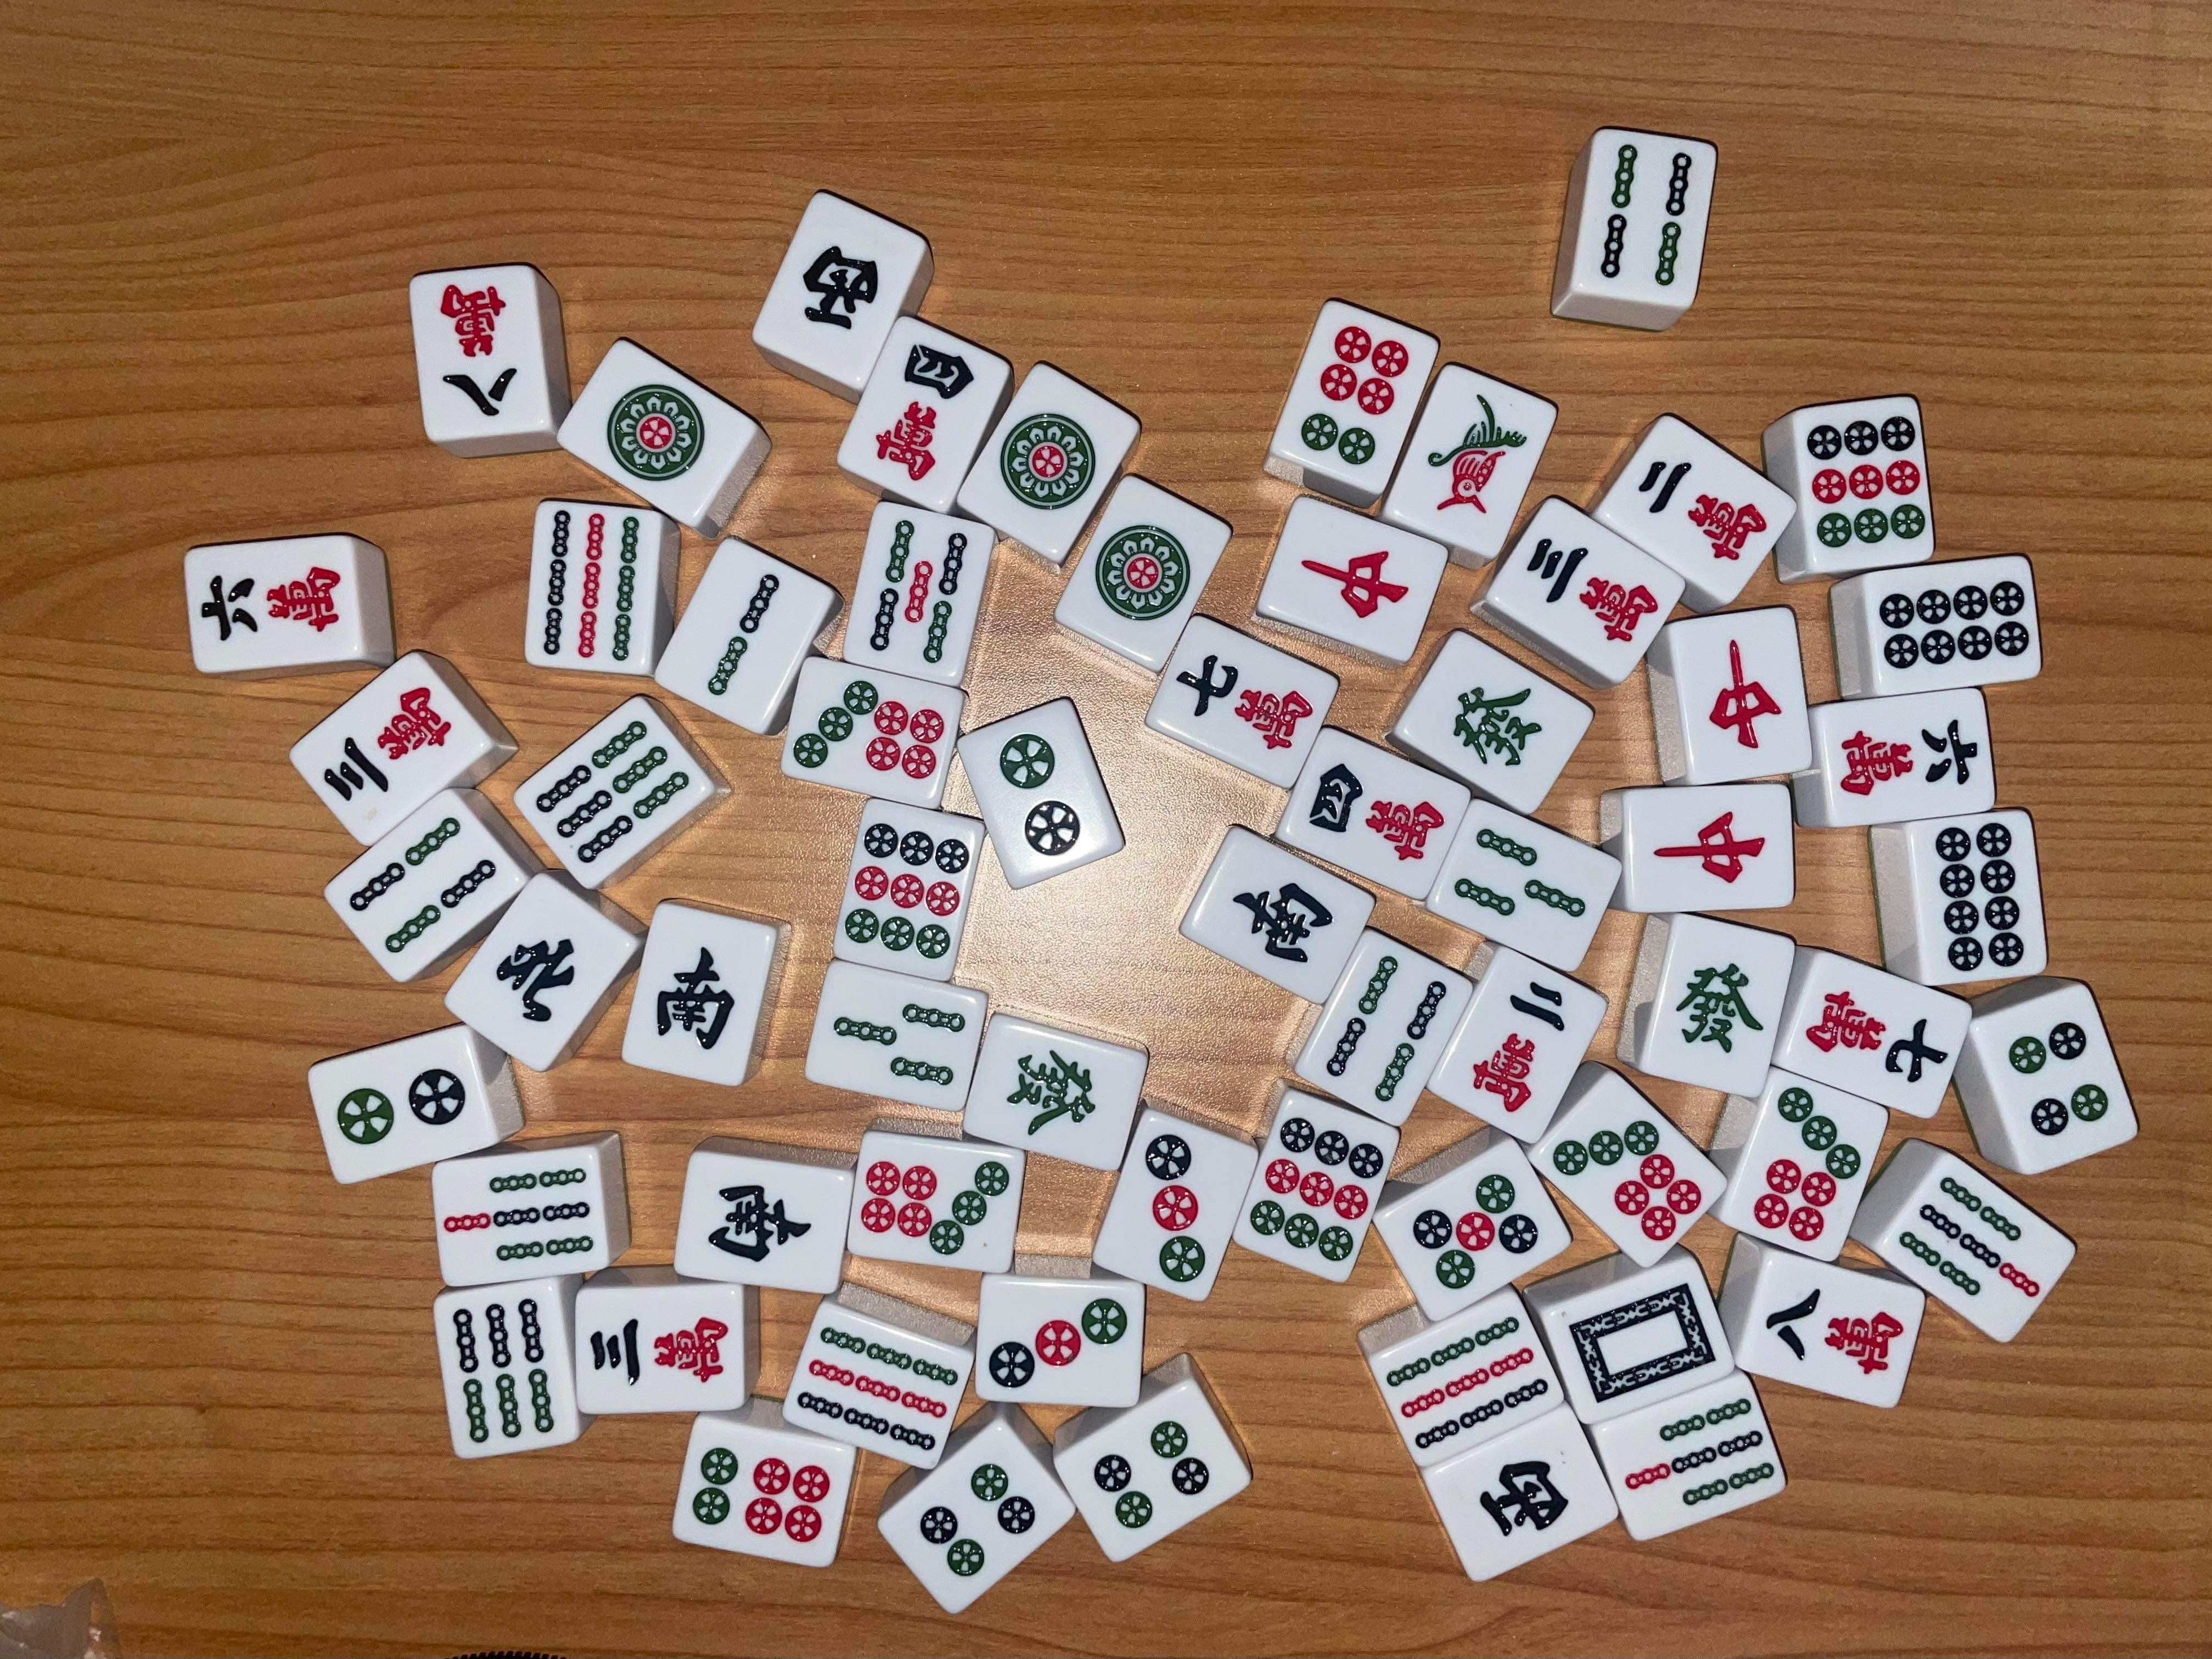b-1: (1428, 392, 1530, 514)
b-2: (708, 572, 779, 699)
b-3: (1454, 829, 1586, 939), (828, 1002, 966, 1087)
b-4: (349, 817, 497, 951), (1325, 955, 1449, 1103), (1602, 141, 1693, 286)
b-5: (870, 521, 967, 662)
b-6: (537, 721, 690, 864), (446, 1297, 560, 1445)
b-7: (1625, 1398, 1773, 1523), (1900, 1178, 2041, 1300), (443, 1168, 593, 1260)
b-9: (1384, 1314, 1550, 1450), (797, 1326, 959, 1453), (540, 511, 643, 664)
c-2: (1637, 460, 1771, 561), (1473, 983, 1565, 1112)
c-3: (322, 687, 451, 802), (1527, 538, 1659, 641), (586, 1314, 730, 1385)
c-4: (875, 343, 974, 483), (1309, 763, 1447, 863)
c-6: (1837, 716, 1982, 803), (199, 561, 343, 647)
c-7: (1802, 988, 1949, 1082), (1175, 655, 1313, 749)
c-8: (434, 281, 526, 418), (1766, 1288, 1903, 1375)
d-1: (607, 382, 708, 484), (999, 413, 1096, 511), (1095, 525, 1191, 620)
d-2: (997, 732, 1081, 857), (336, 1068, 465, 1145)
d-3: (985, 1293, 1131, 1389), (1140, 1133, 1208, 1283)
d-4: (917, 1462, 1037, 1579), (1093, 1420, 1211, 1534), (2006, 1021, 2111, 1138)
d-5: (1412, 1175, 1539, 1290)
d-6: (1299, 326, 1410, 467), (690, 1446, 835, 1546)
d-7: (1553, 1119, 1703, 1243), (1754, 1086, 1862, 1244), (791, 680, 947, 779), (859, 1155, 1009, 1255)
d-8: (1935, 823, 2025, 976), (1876, 580, 2031, 669)
d-9: (1250, 1117, 1384, 1260), (845, 821, 969, 962), (1806, 413, 1926, 547)
honors-green: (1006, 1046, 1098, 1138), (1675, 964, 1764, 1053), (1452, 687, 1544, 772)
honors-north: (495, 934, 575, 1023)
honors-red: (1700, 634, 1783, 760), (1288, 538, 1410, 622), (1651, 809, 1768, 889)
honors-south: (650, 943, 737, 1056), (1232, 880, 1340, 965), (709, 1183, 812, 1269)
honors-west: (798, 242, 882, 336), (1478, 1460, 1571, 1537)
honors-white: (1567, 1281, 1717, 1405)
